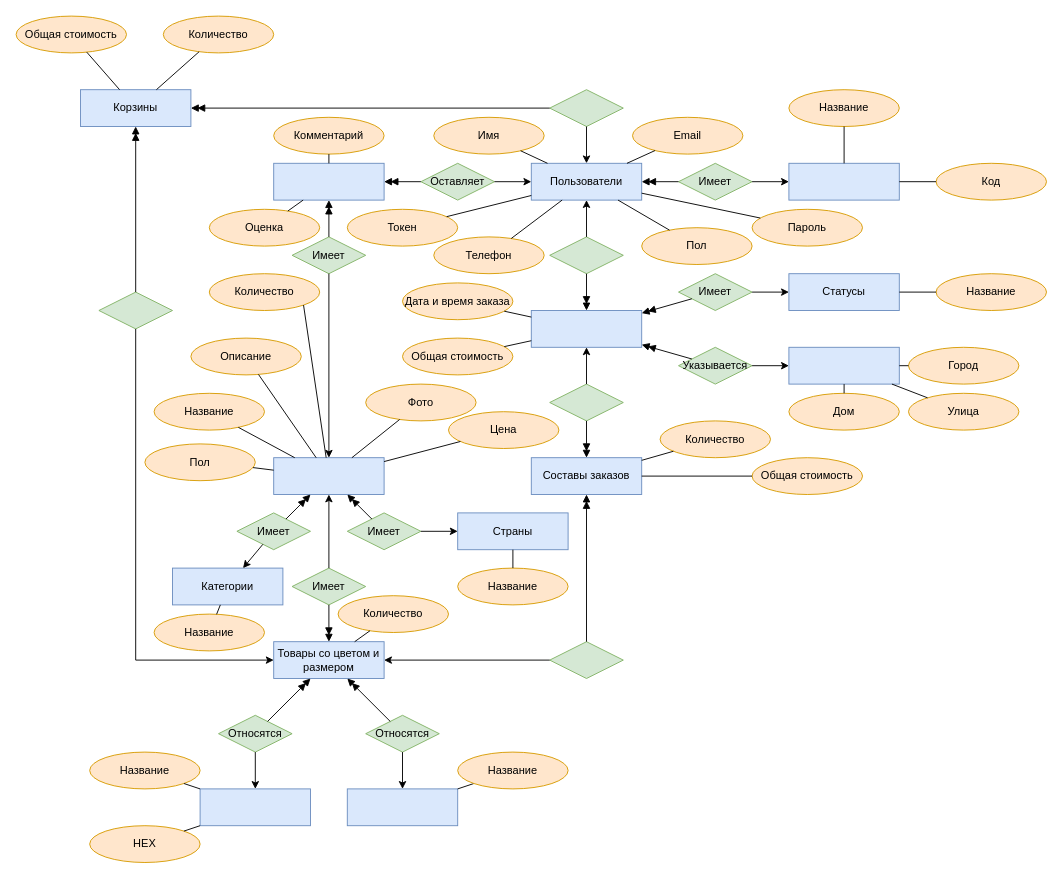
The diagram is 1063 pixels wide and 879 high, and some of its shapes have lost their labels. Here are the shapes that lost their labels. From the top down, the centre of each, then its label:
At (x=586, y=107): "Относятся к".
At (x=328, y=181): "Отзывы".
At (x=843, y=181): "Роли".
At (x=586, y=255): "Оформляет".
At (x=135, y=310): "Находятся в".
At (x=586, y=328): "Заказы".
At (x=843, y=365): "Пункты выдачи".
At (x=586, y=402): "Состоит".
At (x=328, y=475): "Товары".
At (x=586, y=659): "Входит".
At (x=254, y=807): "Цвета".
At (x=402, y=807): "Размеры".
